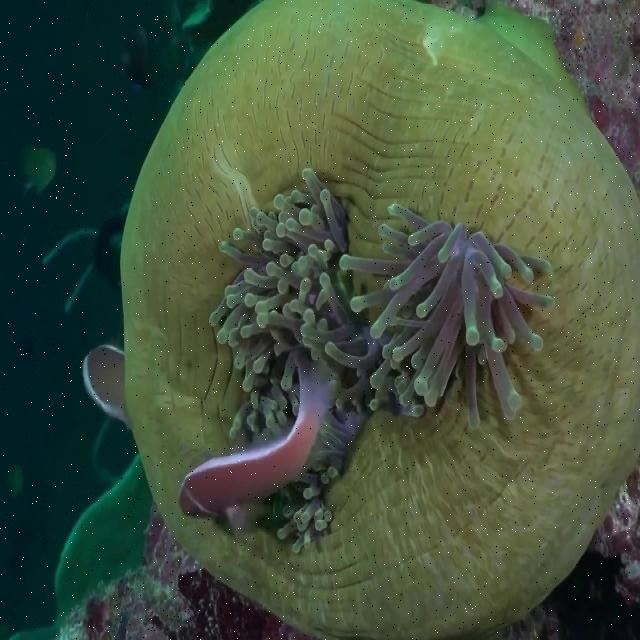reefs: (120, 0, 639, 639)
